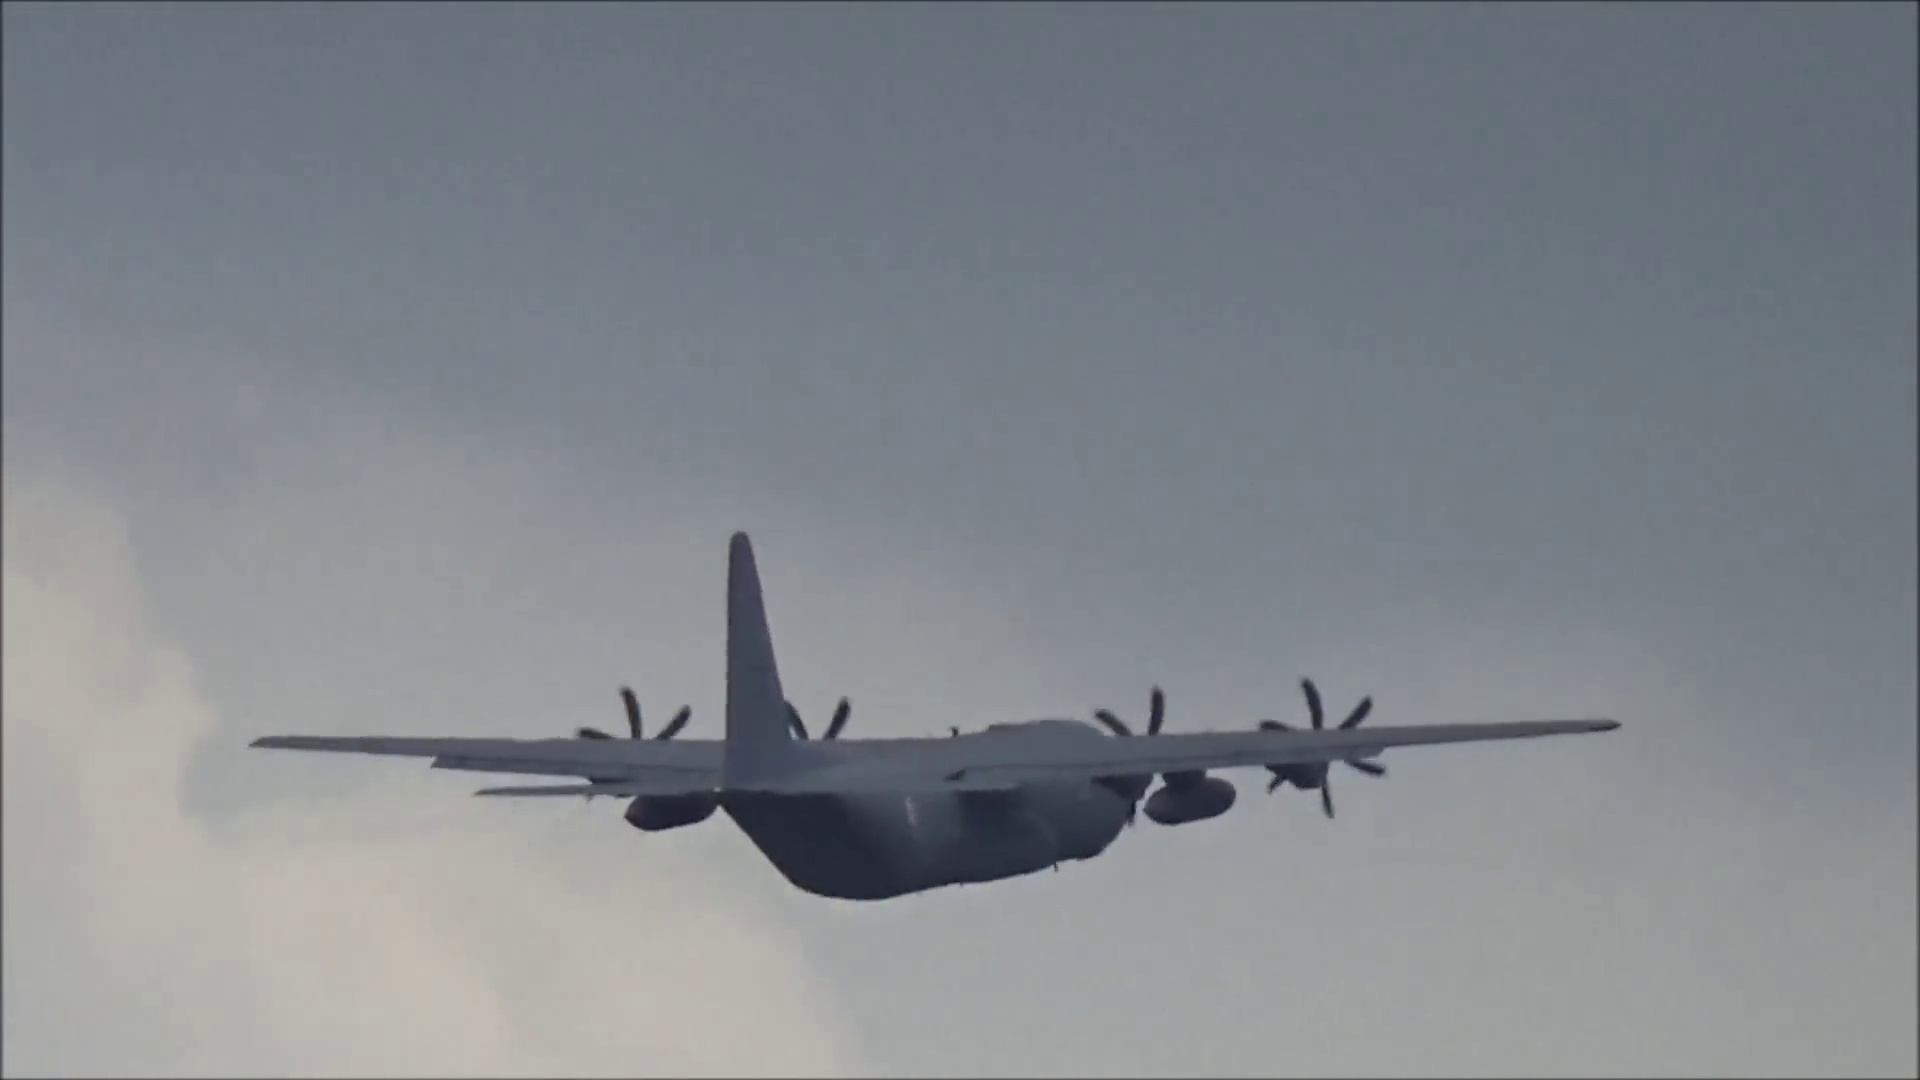Airplane: (247, 527, 1639, 899)
